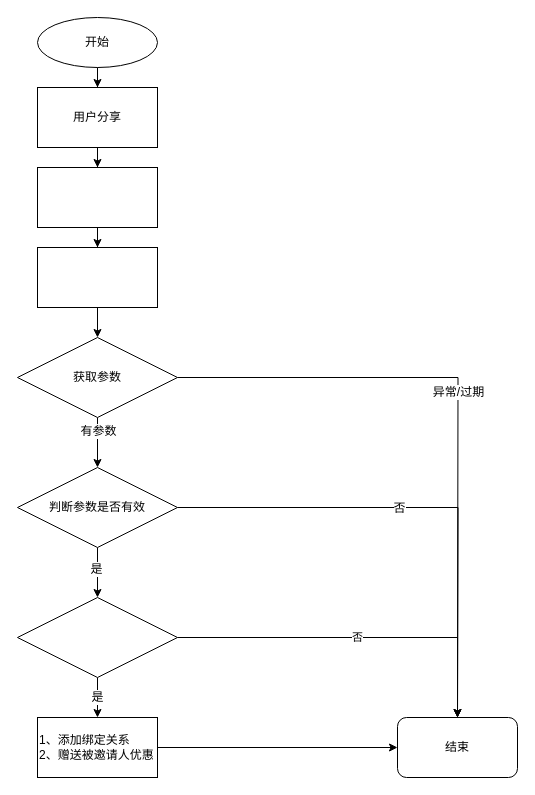
The diagram is 535 pixels wide and 795 high, and some of its shapes have lost their labels. The centre of each missing label's shape, as x and y in pixels:
"分享用户点击下载" goes at (97,197).
"是否活动期间" goes at (97,637).
"注册" goes at (97,277).
